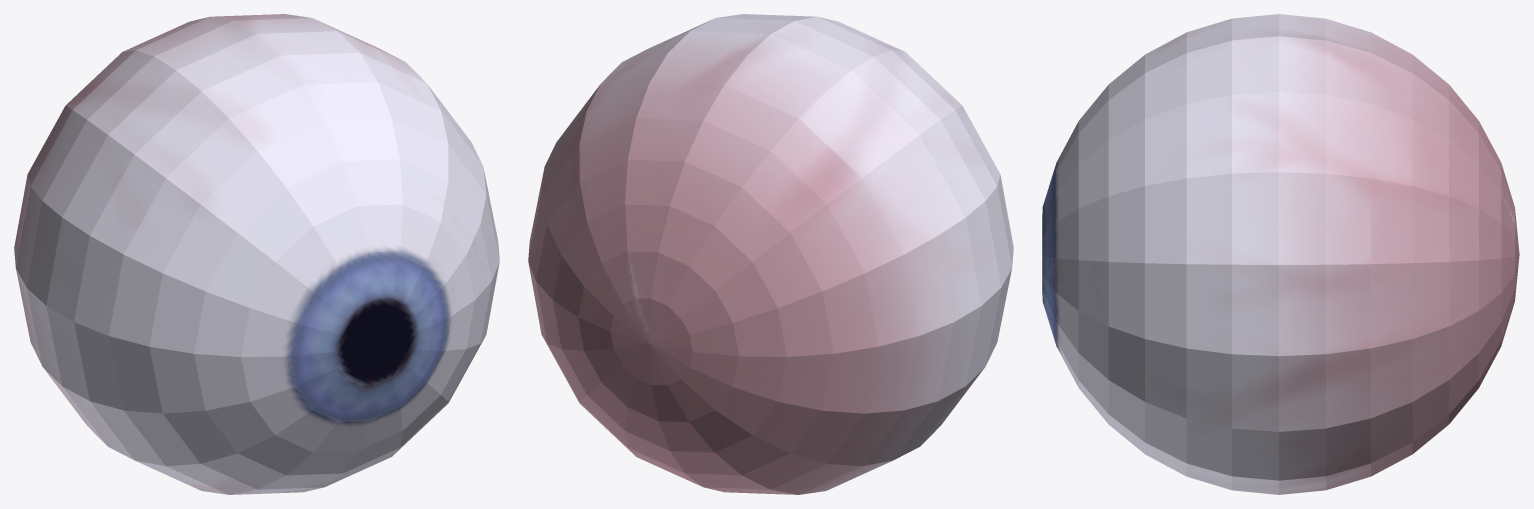
The model's file is ING_eyeball_v01.fbx.
3 renders of one model, left to right at view 1: azimuth 30°, elevation 25°; view 2: azimuth 150°, elevation 25°; view 3: azimuth 270°, elevation 25°, orthographic.
Parts seen in each view (by area): view 1: eyeball; view 2: eyeball; view 3: eyeball.
Part boxes in pixels (x1,y1,x2,y2): eyeball: (14, 14, 499, 494); eyeball: (528, 14, 1013, 494); eyeball: (1042, 14, 1519, 494).
Size of the model in its own units: 12.46 by 12.46 by 12.35.
